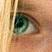eye: (15, 17, 28, 33)
